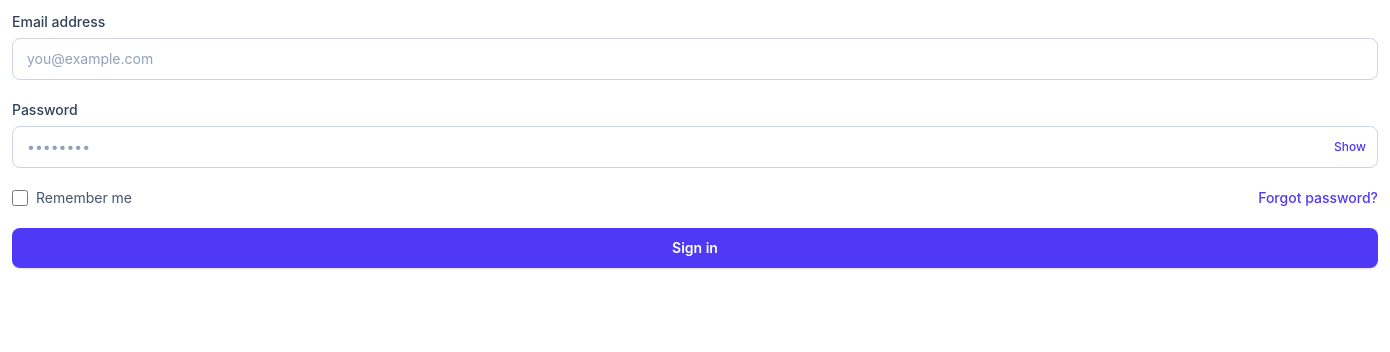
Test: LoginForm › shows the server error in an alert
Type "jane@example.com" into the field labelled "Email address" at (695, 59), box [12,38,1378,80]
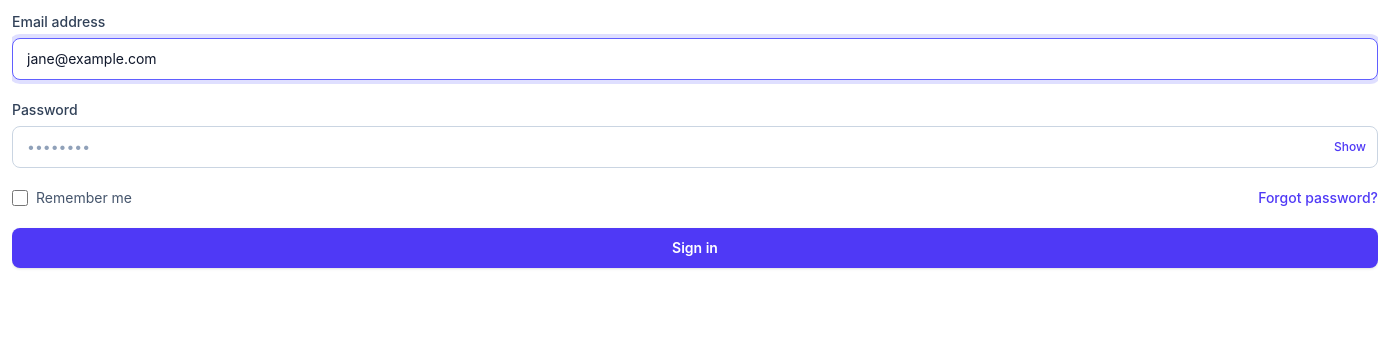
Type "wrongpassword" into the password field labelled "Password" at (695, 147), box [12,126,1378,168]
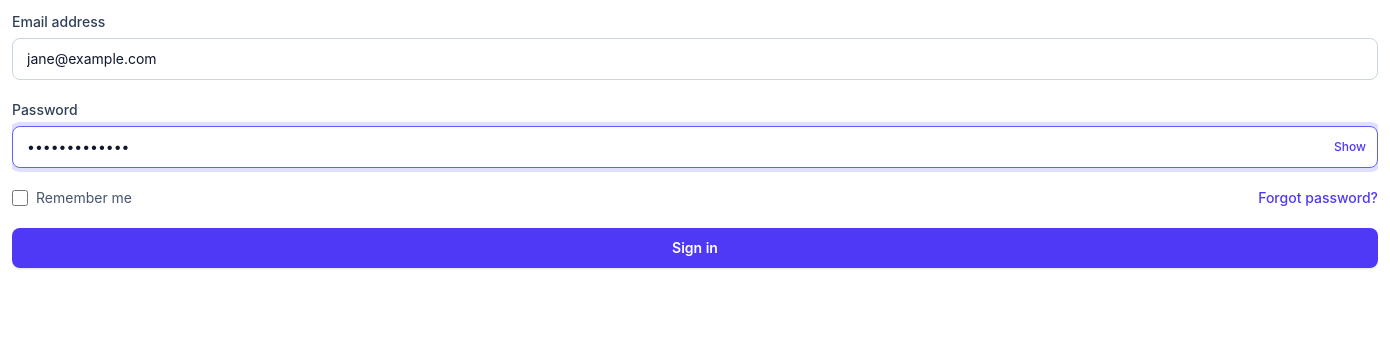
Click the button "Sign in" at (695, 248), box [12,228,1378,268]
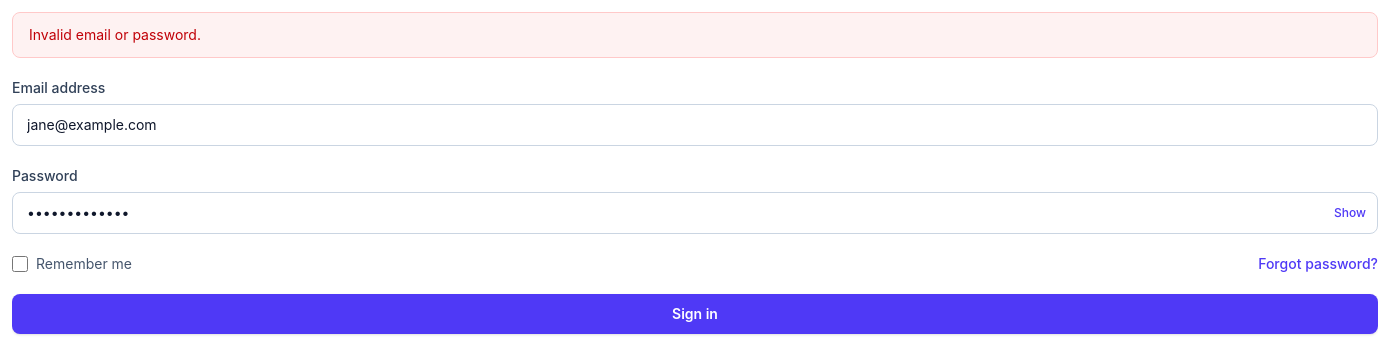
Expected: the message reads "Invalid email or password.", [29,26,201,43]
